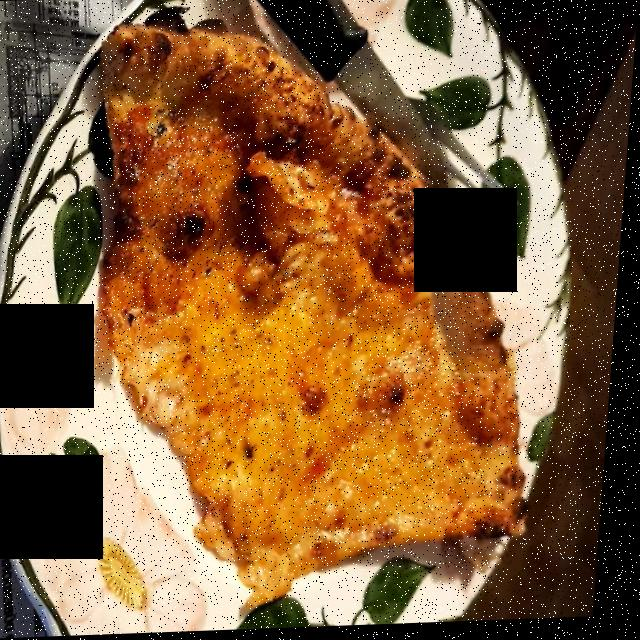pizza-margherita-baked: (102, 31, 528, 591)
